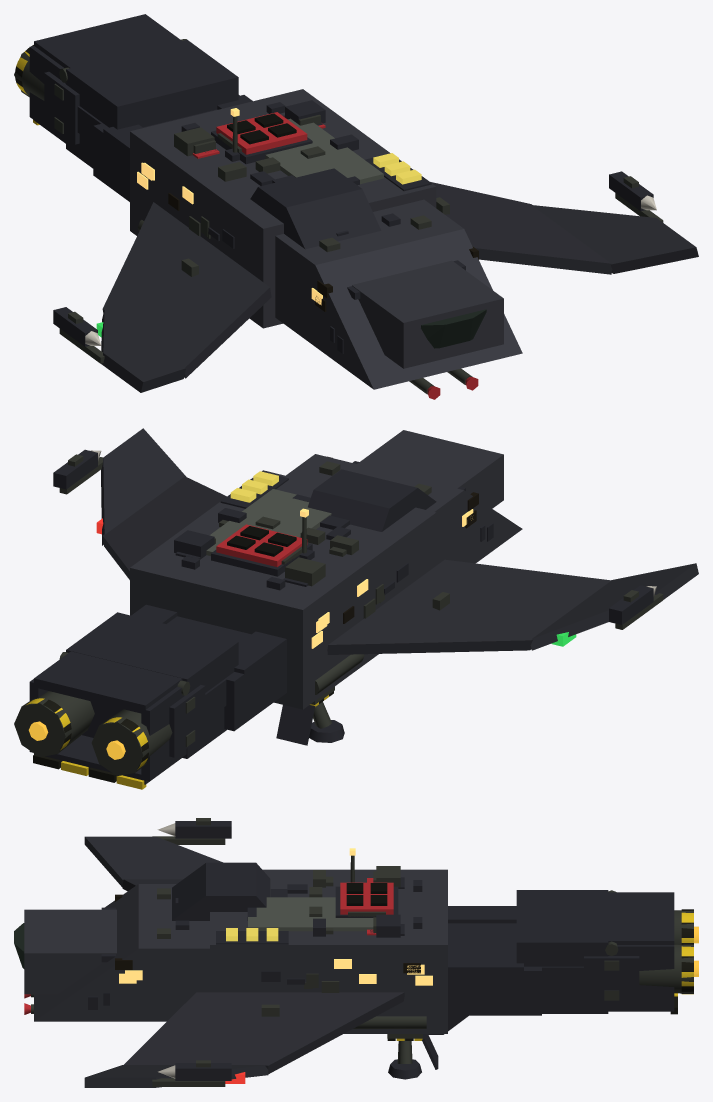
File: enforcer-m.glb
3 views of the same model, one above another, from view 1: azimuth 30°, elevation 25°; view 2: azimuth 150°, elevation 25°; view 3: azimuth 270°, elevation 25° (orthographic). The views are drawn at different scales.
Visible parts, largest first — view 1: hullForebody, hullMain, wingInnerLeft, engineBayBlock, hullNose, wingInnerRight, canopyFairing, wingOuterRight, engShroudT, wingOuterLeft, accentStripe, aftPlug (+10 smaller); view 2: hullMain, wingInnerLeft, engineBayBlock, hullNose, engineHousing (×2), hullForebody, engShroudT, wingOuterRight, wingInnerRight, canopyFairing, wingOuterLeft, aftPlug (+14 smaller); view 3: hullMain, wingInnerRight, hullForebody, engineBayBlock, hullNose, aftPlug, canopyFairing, wingOuterLeft, engShroudT, tailBoom1, accentStripe, engineBayExtension (+14 smaller).
Boxes of the visible parts, x1,y1,x2,y2 form: hullForebody: (275,199,522,389); hullMain: (130,89,436,328); wingInnerLeft: (102,202,271,378); engineBayBlock: (66,39,238,168); hullNose: (352,260,503,368); wingInnerRight: (430,182,612,274); canopyFairing: (250,168,381,249); wingOuterRight: (532,205,698,273); engShroudT: (34,14,181,68); wingOuterLeft: (101,309,186,392); accentStripe: (265,118,383,184); aftPlug: (93,95,239,201); hullMain: (130,470,436,709); wingInnerLeft: (327,559,611,654); engineBayBlock: (66,612,238,758); hullNose: (357,430,503,508); engineHousing (×2): (14,691,172,775); hullForebody: (286,454,522,565); engShroudT: (34,651,182,714); wingOuterRight: (101,428,186,545); wingInnerRight: (102,476,226,579); canopyFairing: (308,469,436,531); wingOuterLeft: (530,563,698,650); aftPlug: (166,616,286,731); hullMain: (210,869,447,1033); wingInnerRight: (124,992,404,1074); hullForebody: (34,884,209,1021); engineBayBlock: (516,890,608,1013); hullNose: (24,909,116,994); aftPlug: (448,923,541,1015); canopyFairing: (172,862,270,920); wingOuterLeft: (84,836,222,887); engShroudT: (608,892,674,944); tailBoom1: (448,954,523,997); accentStripe: (248,897,373,931); engineBayExtension: (584,956,639,1002).
Bounding box in the file's own units: 3.94 × 1.26 × 4.61.
